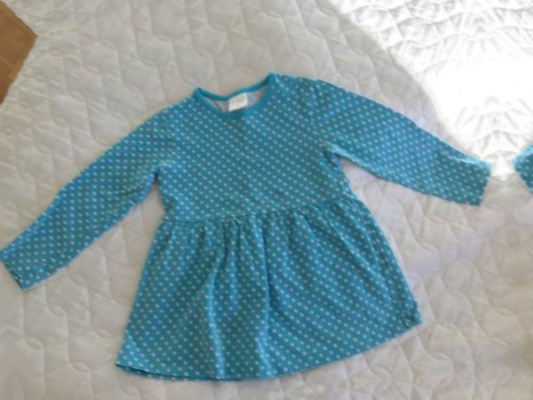Dress: (0, 44, 530, 400), (483, 0, 533, 342), (37, 371, 533, 400), (0, 125, 11, 400)
